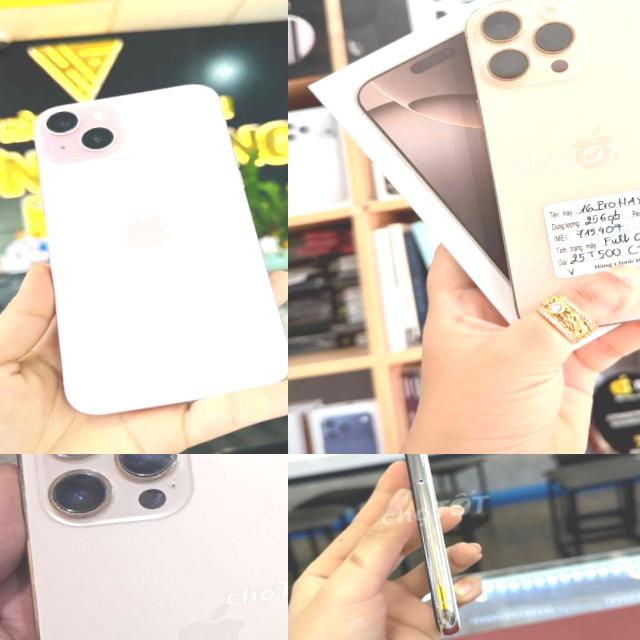gen_11: (372, 454, 478, 640)
gen_12_13: (0, 454, 288, 640)
gen_15: (27, 73, 288, 423)
gen_16: (456, 0, 640, 338)
scratch: (410, 517, 463, 630), (402, 454, 429, 478)
